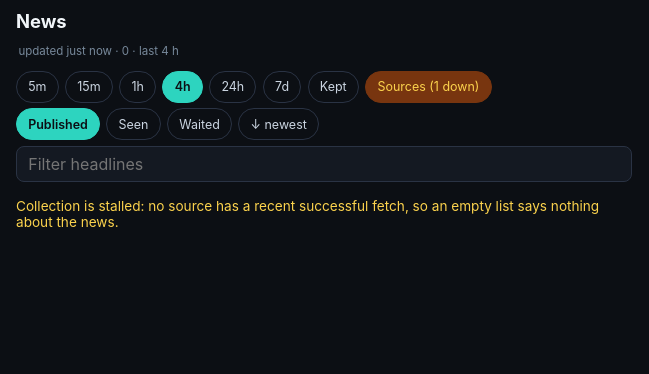
Scenario: NewsScreen › says the collection is stalled rather than showing an empty list
Click the button "Sources (1 down)": coordinates (428, 87) 365,71 -> 492,103
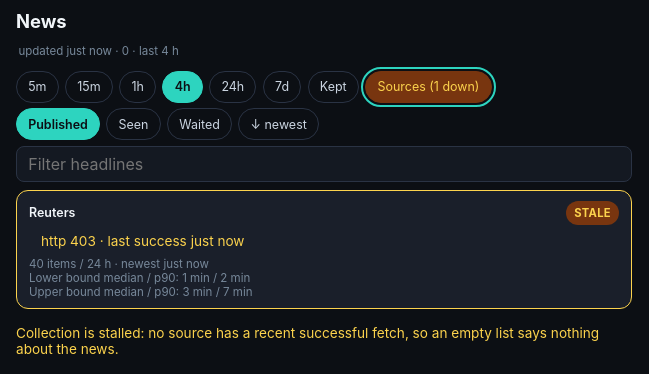
expect the text "Collection is stalled" is shown: met, box 16,325 -> 599,357
expect the text "http 403 · last success just now" is shown: met, box 41,233 -> 244,249
